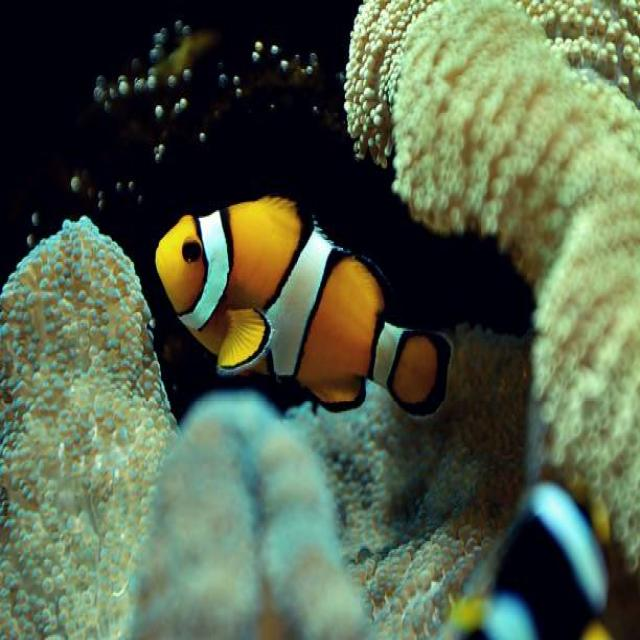ClownFish: (157, 193, 454, 433)
